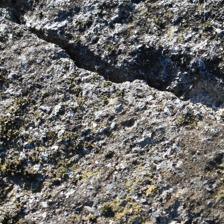Crack: (8, 6, 213, 94)
